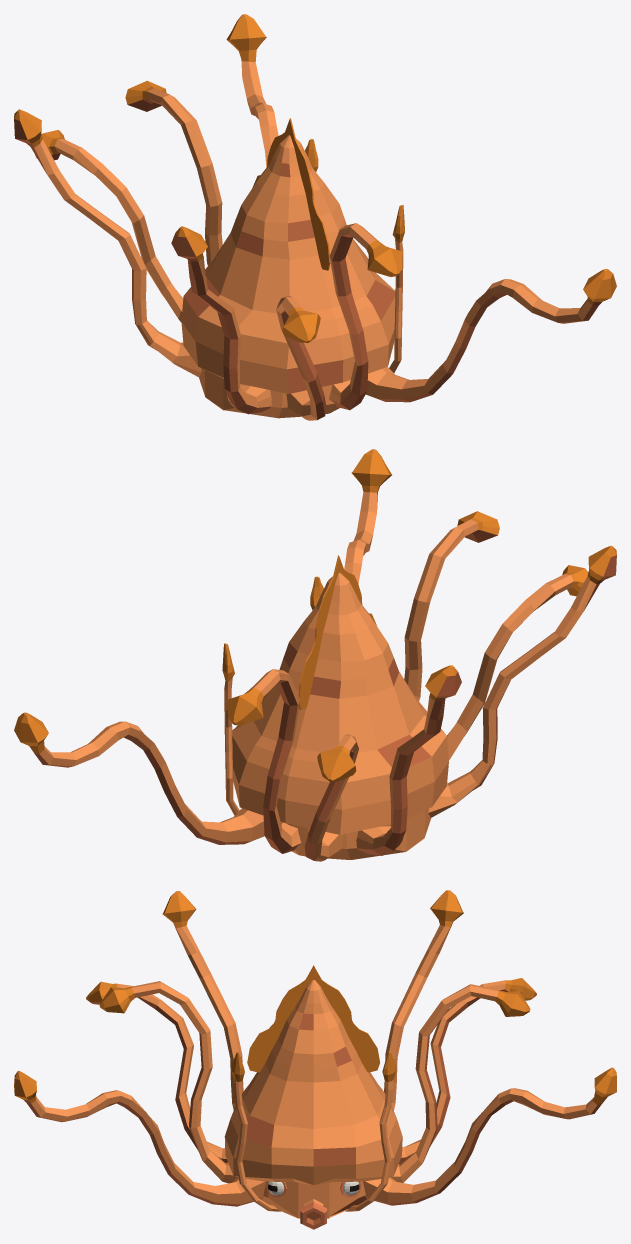
Rendered from big_squid_anim.fbx.
The picture shows the model from 3 angles, top to bottom: view 1: azimuth 30°, elevation 25°; view 2: azimuth 150°, elevation 25°; view 3: azimuth 270°, elevation 25°; orthographic projection. The views are drawn at different scales.
Visible parts, largest first — view 1: Cube, Cube.002, Cube.008, Cube.011, Cube.009, Cube.006, Cube.007, Cube.010, Cube.003, Cube.004; view 2: Cube, Cube.003, Cube.009, Cube.006, Cube.008, Cube.011, Cube.010, Cube.007, Cube.002, Cube.004; view 3: Cube, Cube.003, Cube.002, Cube.011, Cube.006, Cube.008, Cube.009, Cube.004, Cube.007, Cube.010.
Part boxes in pixels (x1=…): Cube: x1=181, y1=118, x2=395, y2=418; Cube.002: x1=365, y1=268, x2=616, y2=402; Cube.008: x1=14, y1=109, x2=201, y2=377; Cube.011: x1=329, y1=223, x2=402, y2=410; Cube.009: x1=171, y1=226, x2=271, y2=414; Cube.006: x1=125, y1=80, x2=222, y2=265; Cube.007: x1=35, y1=130, x2=183, y2=322; Cube.010: x1=276, y1=295, x2=326, y2=420; Cube.003: x1=226, y1=14, x2=278, y2=167; Cube.004: x1=305, y1=139, x2=404, y2=372; Cube: x1=232, y1=555, x2=448, y2=859; Cube.003: x1=14, y1=712, x2=264, y2=844; Cube.009: x1=428, y1=545, x2=616, y2=817; Cube.006: x1=227, y1=669, x2=301, y2=853; Cube.008: x1=356, y1=665, x2=461, y2=855; Cube.011: x1=404, y1=511, x2=499, y2=701; Cube.010: x1=447, y1=565, x2=588, y2=759; Cube.007: x1=304, y1=734, x2=358, y2=861; Cube.002: x1=344, y1=449, x2=391, y2=583; Cube.004: x1=222, y1=576, x2=323, y2=815; Cube: x1=224, y1=965, x2=402, y2=1229; Cube.003: x1=363, y1=1067, x2=616, y2=1205; Cube.002: x1=14, y1=1070, x2=266, y2=1206; Cube.011: x1=99, y1=981, x2=237, y2=1183; Cube.006: x1=391, y1=984, x2=530, y2=1182; Cube.008: x1=384, y1=890, x2=463, y2=1110; Cube.009: x1=162, y1=891, x2=243, y2=1110; Cube.004: x1=231, y1=1051, x2=396, y2=1211; Cube.007: x1=399, y1=978, x2=536, y2=1164; Cube.010: x1=86, y1=981, x2=227, y2=1162.
Bounding box in the file's own units: 552 × 413 × 973.
